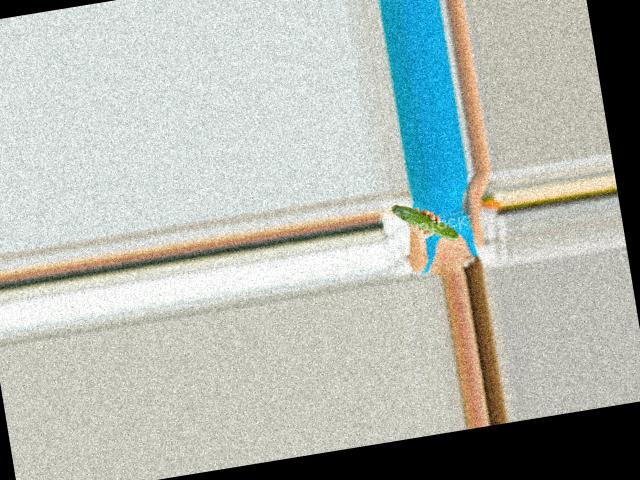cucumber: (391, 195, 459, 248)
